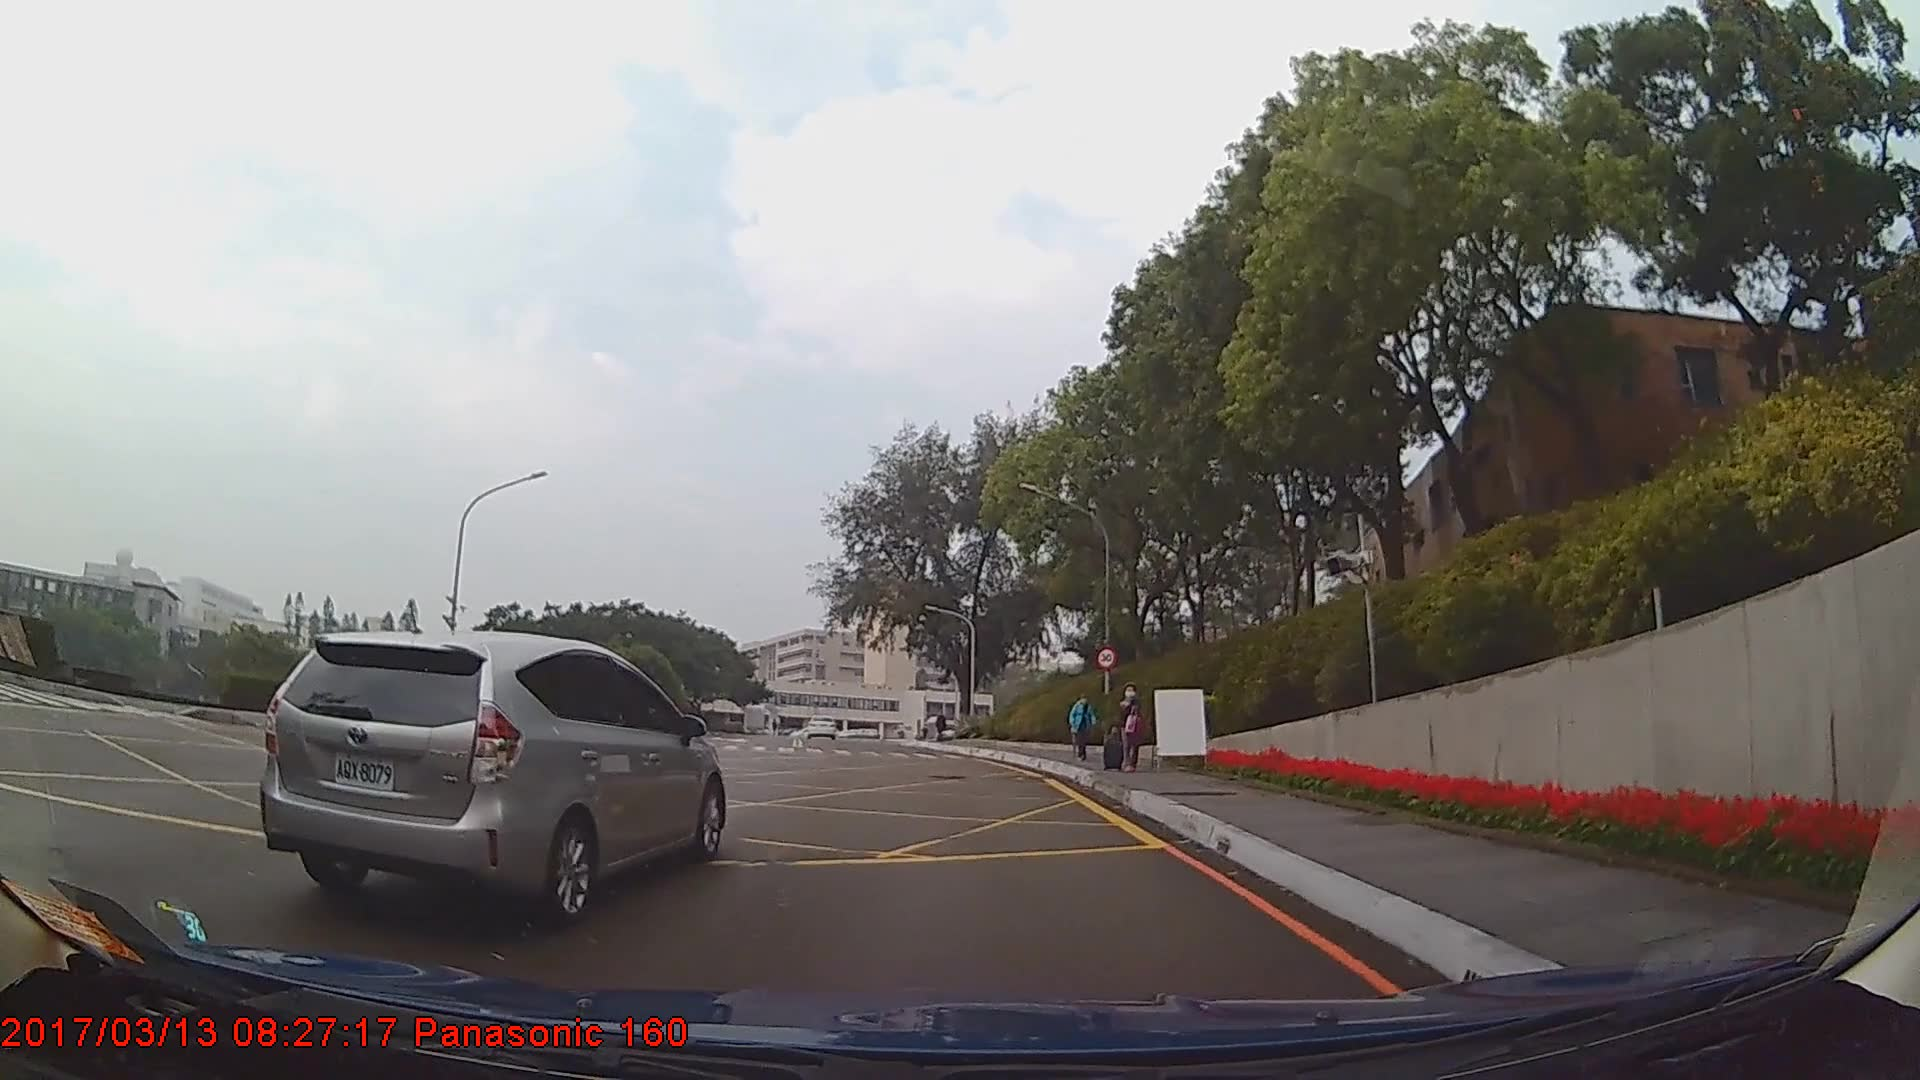pedestrian: (1106, 683, 1150, 772), (1070, 691, 1098, 765)
vehicle: (256, 628, 731, 929), (805, 713, 839, 740)
